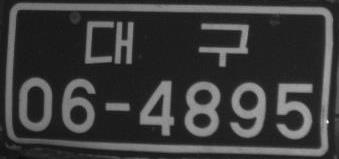0: (18, 76, 52, 133)
4: (139, 79, 175, 135)
5: (276, 81, 312, 138)
6: (60, 76, 95, 134)
8: (183, 80, 220, 138)
9: (230, 80, 267, 138)
대구_D: (83, 20, 249, 67)
